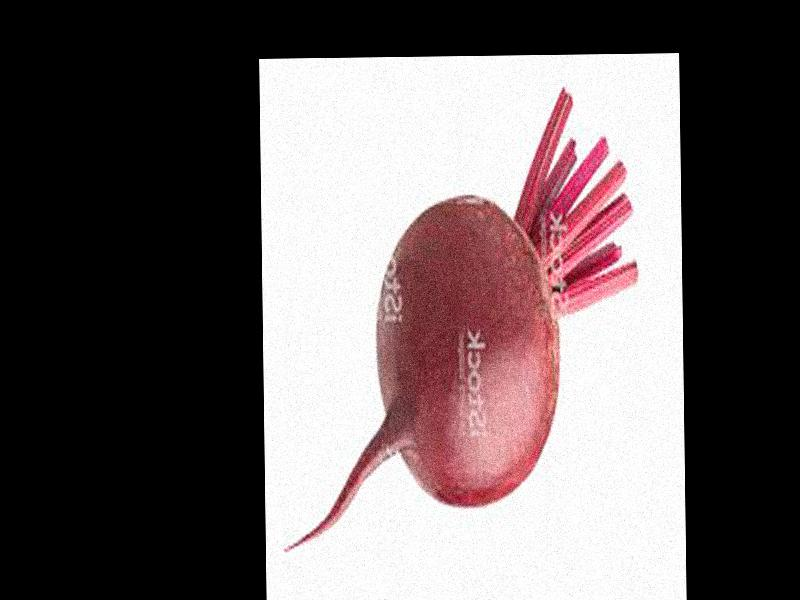Beet: (284, 89, 642, 554)
